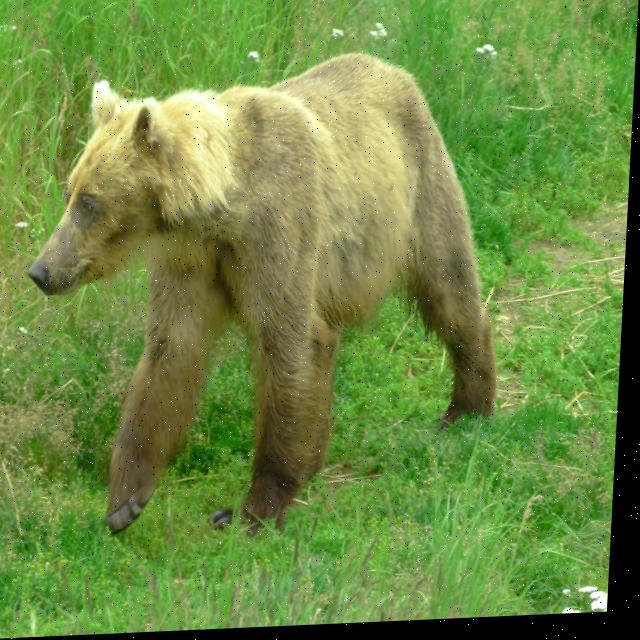bear face: (21, 54, 512, 538)
